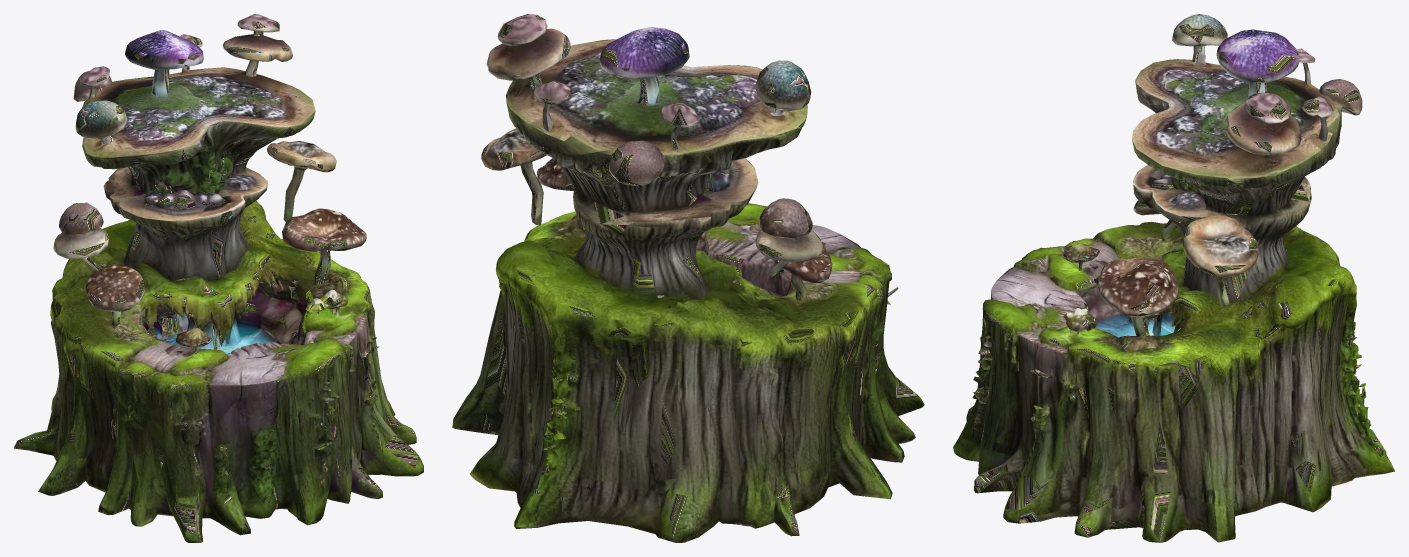
File: Mushroom_Citadel_on_a.glb
3 renders of one model, left to right at view 1: azimuth 30°, elevation 25°; view 2: azimuth 150°, elevation 25°; view 3: azimuth 270°, elevation 25°, orthographic. The views are drawn at different scales.
Visible parts, largest first — view 1: Mushroom_Citadel_on_a; view 2: Mushroom_Citadel_on_a; view 3: Mushroom_Citadel_on_a.
Boxes of the visible parts, x1,y1,x2,y2 form: Mushroom_Citadel_on_a: [14, 14, 423, 542]; Mushroom_Citadel_on_a: [452, 14, 924, 542]; Mushroom_Citadel_on_a: [953, 14, 1394, 542].
Bounding box in the file's own units: 1.8 × 1.91 × 1.85.
1 material, 1 textured.
